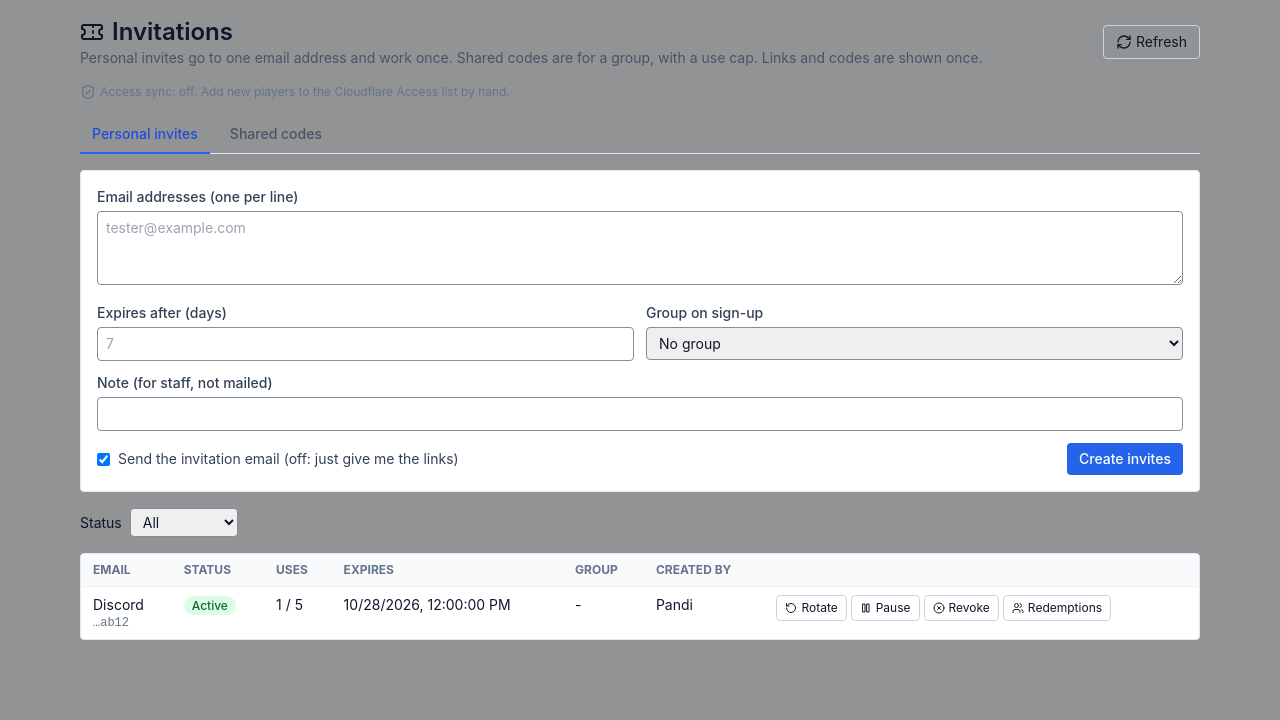
Test: InvitationsPage › opens the redemptions drawer
Click the button "Redemptions": (1057, 608) [1003,595,1111,621]
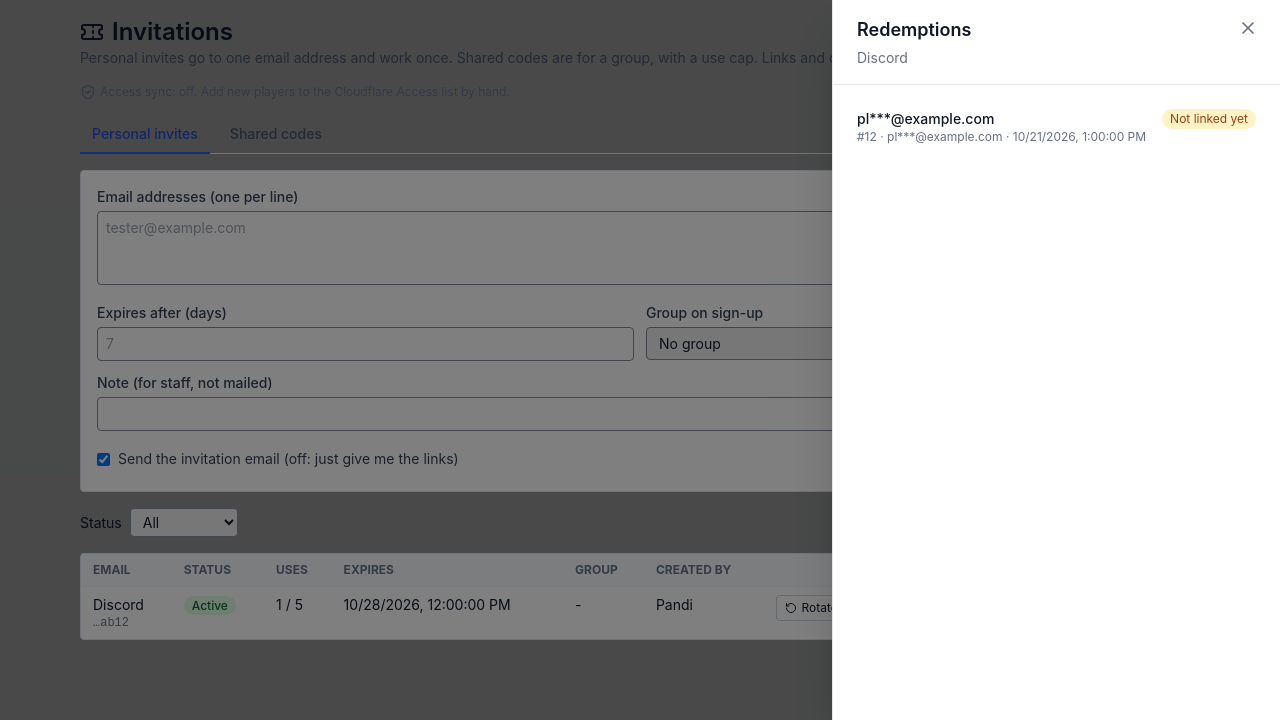
Expected: the text "Not linked yet" is shown, [1162,109,1256,129]
Expected: the text "pl***@example.com" is shown, [857,109,994,129]
